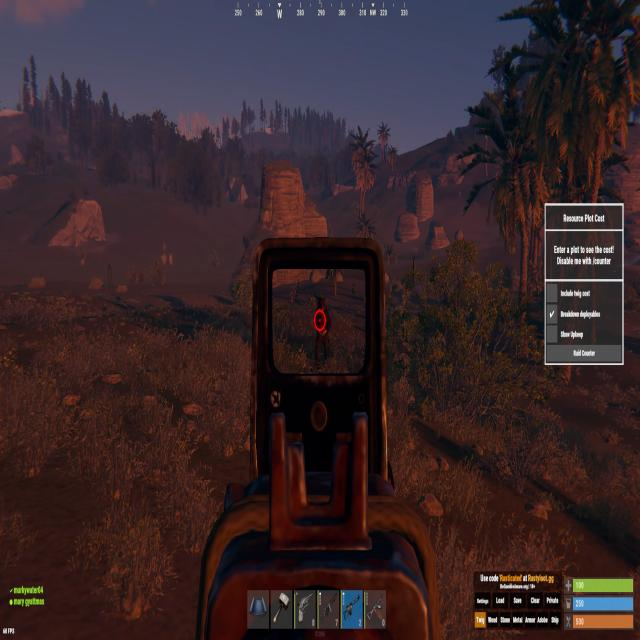Player: (314, 295, 332, 360)
